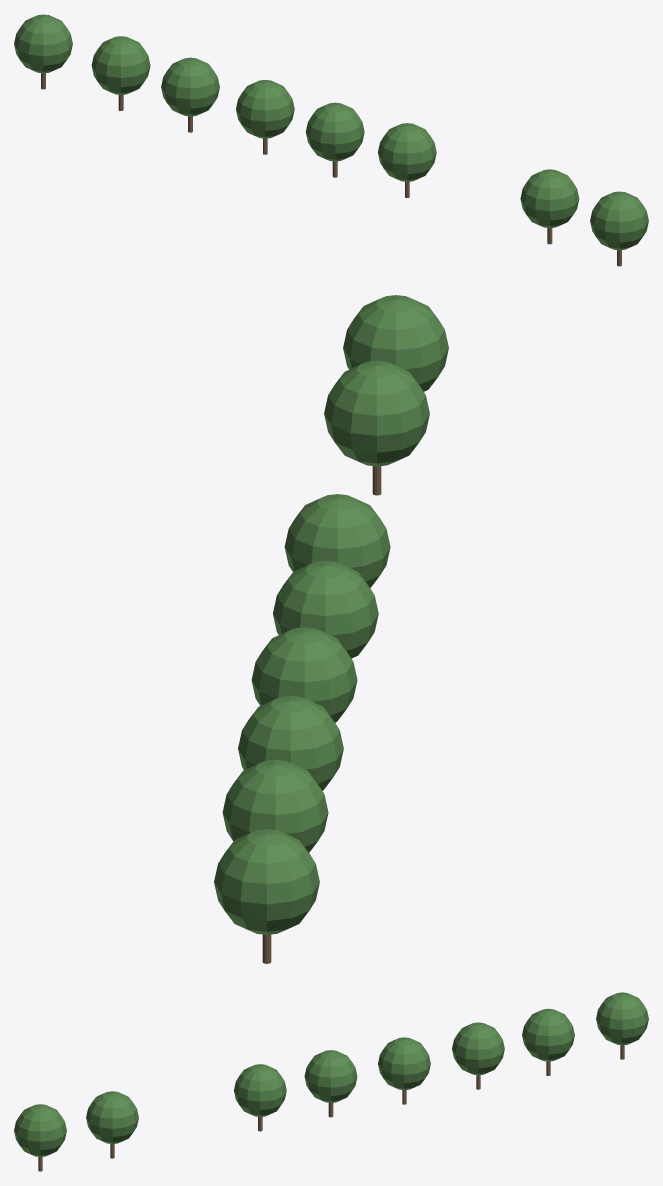
Rendered from trees-660-12977-3016ebc0774b.glb.
3 views of the same model, one above another, from view 1: azimuth 30°, elevation 25°; view 2: azimuth 150°, elevation 25°; view 3: azimuth 270°, elevation 25° (orthographic). The views are drawn at different scales.
Bounding box in the file's own units: 71.24 × 16.31 × 144.
